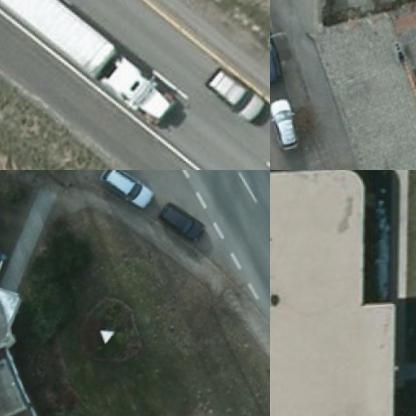car: (204, 57, 269, 127), (99, 170, 161, 209), (160, 196, 215, 239), (271, 94, 312, 150), (270, 24, 293, 82)
truck: (0, 0, 197, 142)
